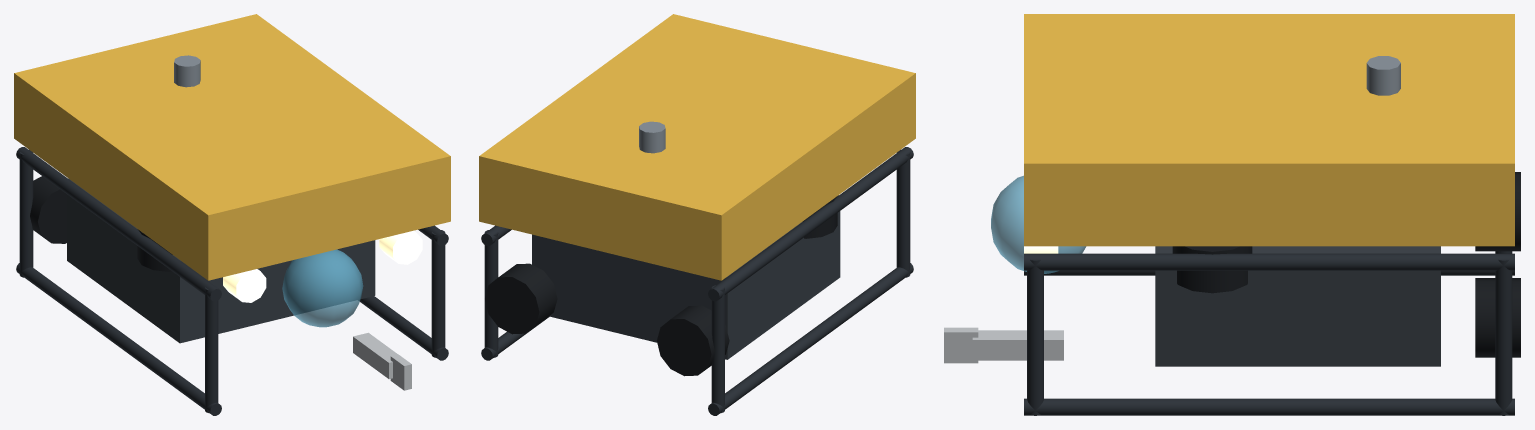
File: fleet--rov.glb
3 renders of one model, left to right at view 1: azimuth 30°, elevation 25°; view 2: azimuth 150°, elevation 25°; view 3: azimuth 270°, elevation 25°, orthographic. The views are drawn at different scales.
Parts seen in each view (by area): view 1: rov:shell, camera, thrusters, manipulator, lampL, lampR, tetherPoint; view 2: rov:shell, thrusters, tetherPoint; view 3: rov:shell, thrusters, manipulator, camera, tetherPoint.
Boxes of the visible parts, <box> form: rov:shell: <box>14,14,450,415</box>; camera: <box>282,249,363,327</box>; thrusters: <box>30,176,172,271</box>; manipulator: <box>353,332,411,390</box>; lampL: <box>223,269,266,302</box>; lampR: <box>379,230,422,264</box>; tetherPoint: <box>174,55,200,87</box>; rov:shell: <box>479,14,915,415</box>; thrusters: <box>484,196,837,376</box>; tetherPoint: <box>639,121,665,153</box>; rov:shell: <box>1024,14,1514,415</box>; thrusters: <box>1172,172,1520,357</box>; manipulator: <box>944,327,1063,363</box>; camera: <box>991,175,1086,273</box>; tetherPoint: <box>1366,56,1400,95</box>.
Bounding box in the file's own units: 0.62 × 0.545 × 1.01.
